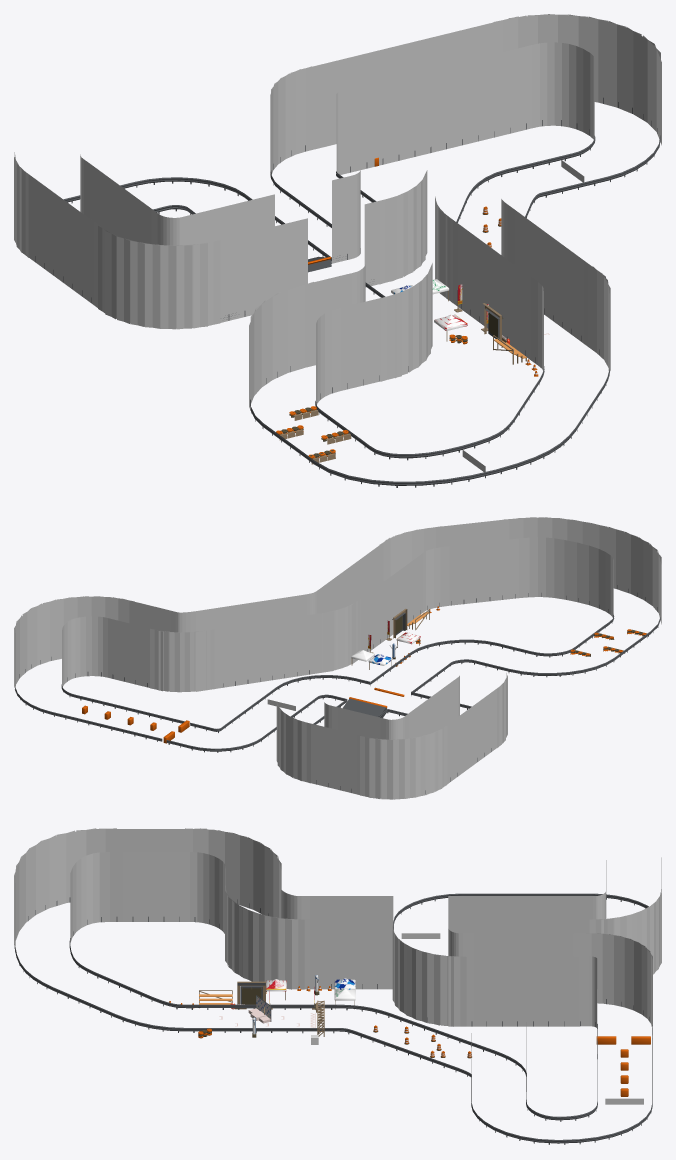
File: race_track.glb
The picture shows the model from 3 angles, top to bottom: view 1: azimuth 30°, elevation 25°; view 2: azimuth 150°, elevation 25°; view 3: azimuth 270°, elevation 25°; orthographic projection. The views are drawn at different scales.
Parts seen in each view (by area): view 1: trimesh, refRailsPhysicalFixed, blocks, Cube.088; view 2: trimesh, refRailsPhysicalFixed, jump, Cube.088; view 3: trimesh, refRailsPhysicalFixed, Cube.088.
Boxes of the visible parts, x1,y1,x2,y2 form: trimesh: (14, 14, 661, 408); refRailsPhysicalFixed: (35, 97, 660, 487); blocks: (276, 406, 351, 464); Cube.088: (446, 290, 549, 364); trimesh: (14, 517, 661, 799); refRailsPhysicalFixed: (15, 585, 660, 794); jump: (343, 687, 404, 717); Cube.088: (351, 608, 429, 669); trimesh: (14, 828, 661, 1103); refRailsPhysicalFixed: (14, 893, 652, 1144); Cube.088: (198, 981, 354, 1038).
Bounding box in the file's own units: 152 × 21.87 × 168.
9 materials, 6 textured.
